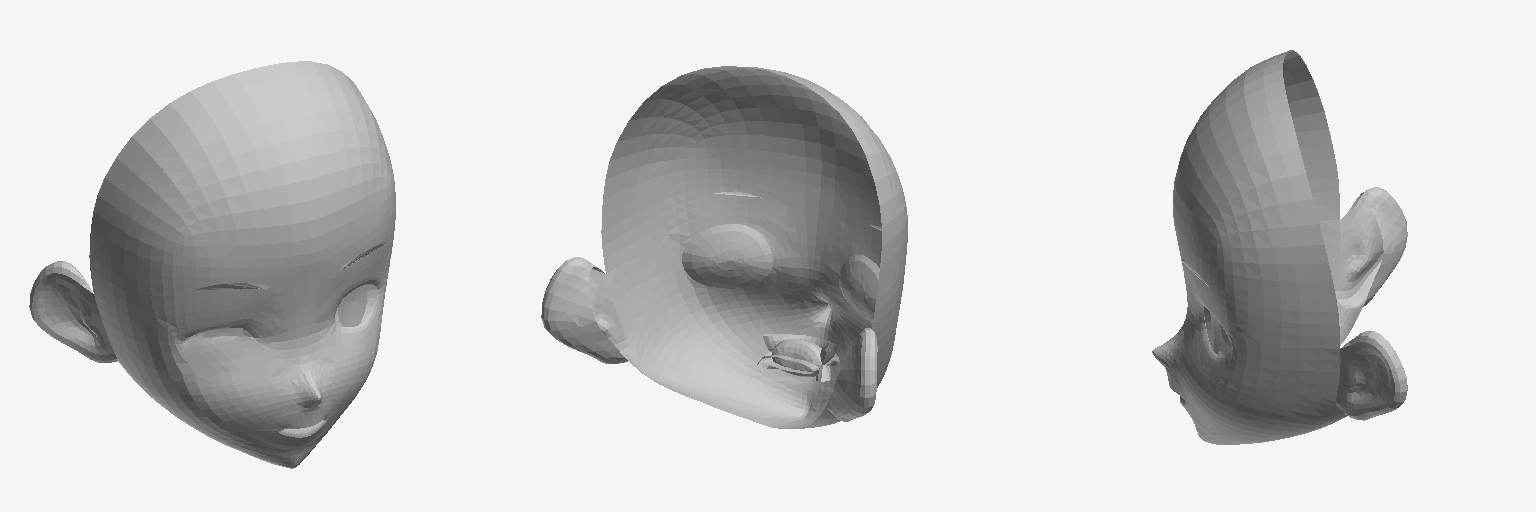
File: eyeSquintRight.obj
The picture shows the model from 3 angles: view 1: azimuth 30°, elevation 25°; view 2: azimuth 150°, elevation 25°; view 3: azimuth 270°, elevation 25°; orthographic projection.
Parts seen in each view (by area): view 1: Face; view 2: Face; view 3: Face.
Boxes of the visible parts, box(x1,y1,x2,y2) form: Face: box(29, 61, 395, 468); Face: box(541, 66, 907, 428); Face: box(1152, 50, 1407, 444).
Bounding box in the file's own units: 0.2176 × 0.2333 × 0.1449.